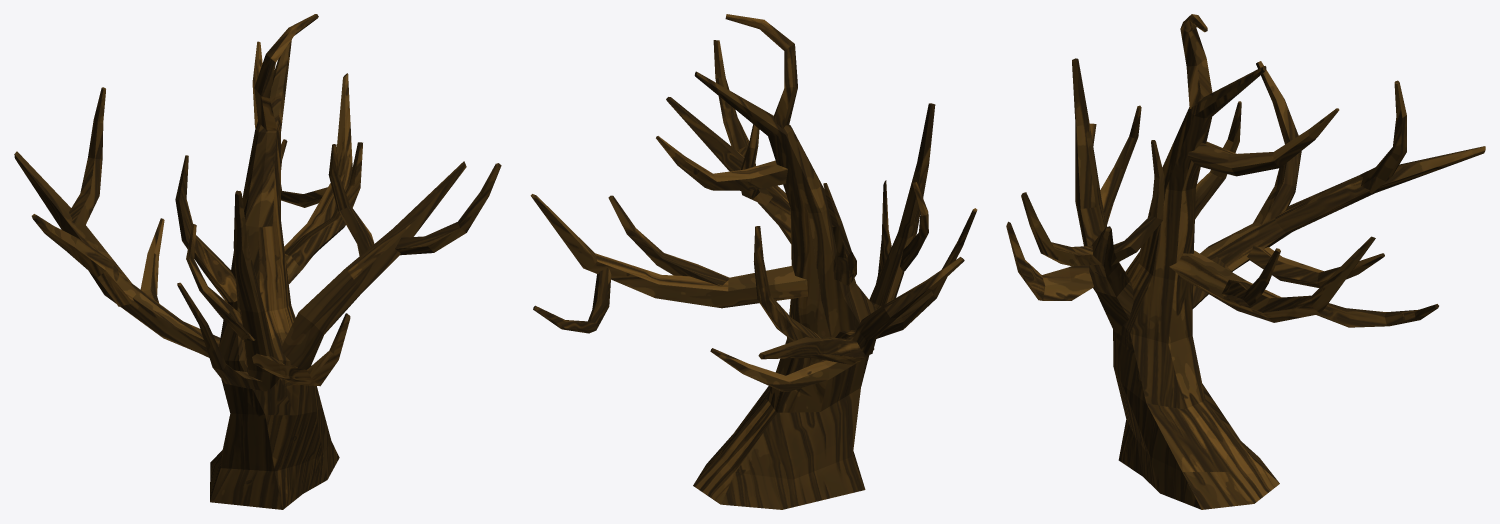
File: Dead_Bush6.fbx
3 renders of one model, left to right at view 1: azimuth 30°, elevation 25°; view 2: azimuth 150°, elevation 25°; view 3: azimuth 270°, elevation 25°, orthographic. The views are drawn at different scales.
Parts seen in each view (by area): view 1: Dead_Bush_6; view 2: Dead_Bush_6; view 3: Dead_Bush_6.
Part boxes in pixels (x1,y1,x2,y2): Dead_Bush_6: (14, 14, 501, 509); Dead_Bush_6: (530, 14, 977, 509); Dead_Bush_6: (1006, 14, 1485, 509).
Bounding box in the file's own units: 26.97 × 28.72 × 31.18.
